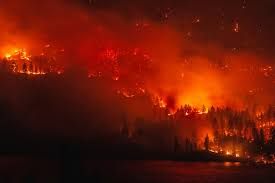fire: (201, 129, 248, 160), (4, 43, 37, 68), (181, 96, 224, 115)
smoke: (79, 6, 264, 83)
